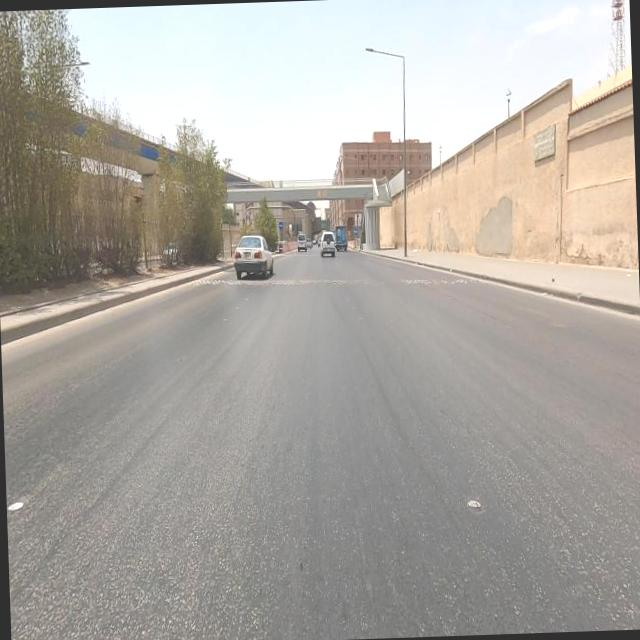debris: (515, 101, 576, 185)
